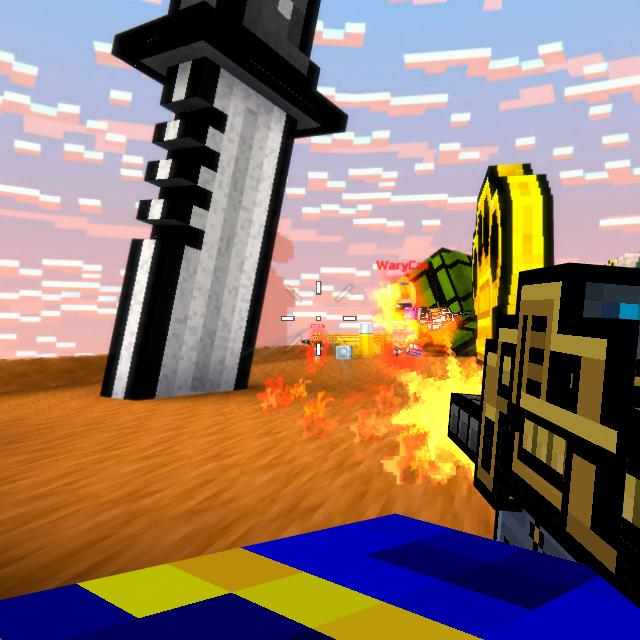Enemy: (394, 279, 422, 356), (306, 333, 323, 364)
